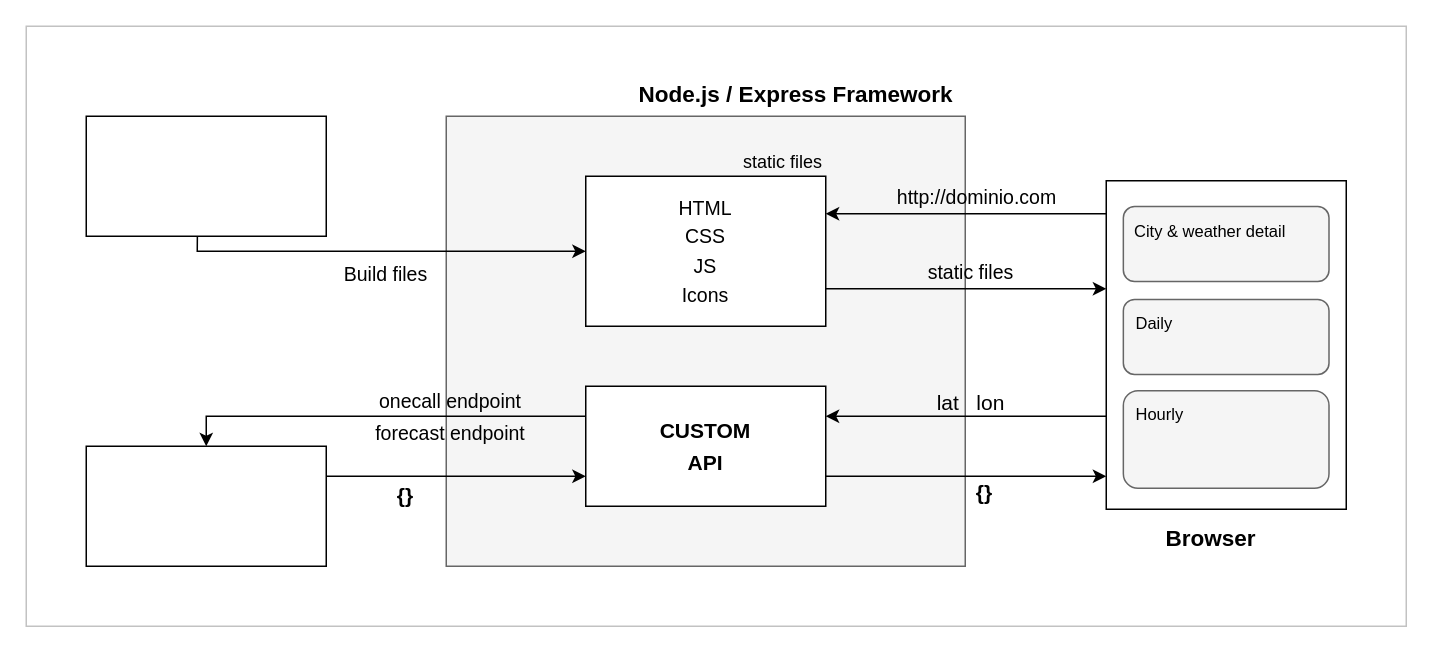
Some shapes in this 1433 by 653 pixel diagram are drawn without their labels. The box of each missing label's shape, as (x1, y1, x2, y2) in pixels:
OpeWeatherMap API: (85, 445, 326, 566)
REACT SPA: (85, 115, 326, 236)
